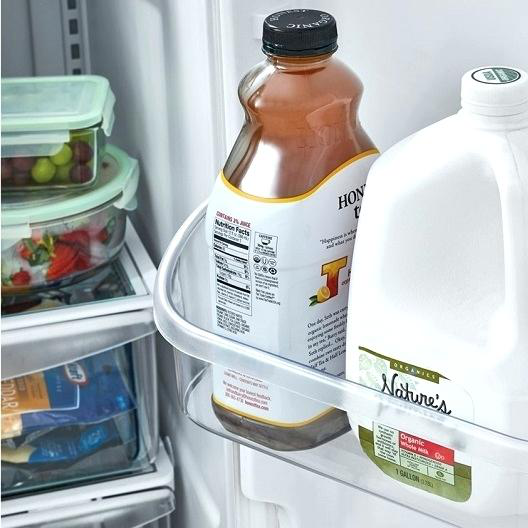milk: (344, 68, 528, 512)
